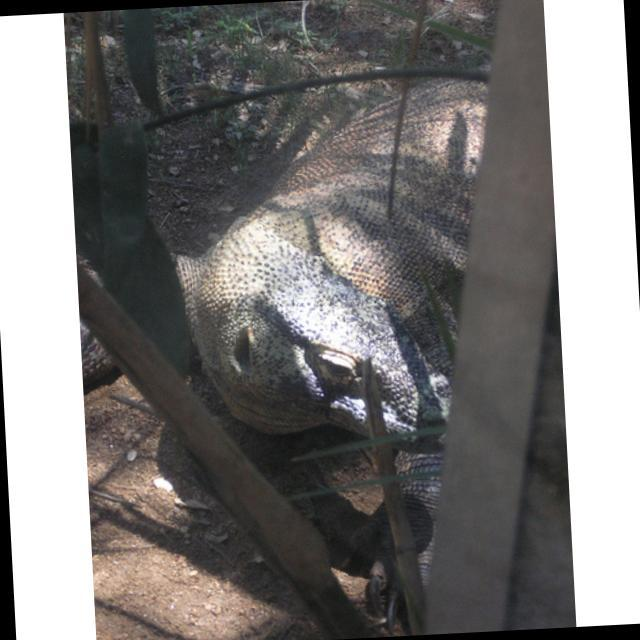KomodoDragon: (69, 0, 508, 467)
